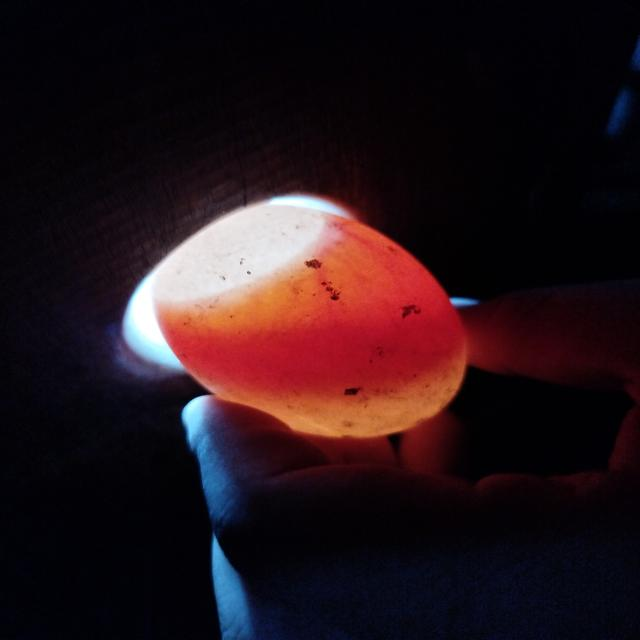Camara de Ar: (150, 205, 327, 302)
Gema Quebrada: (158, 295, 463, 393)
